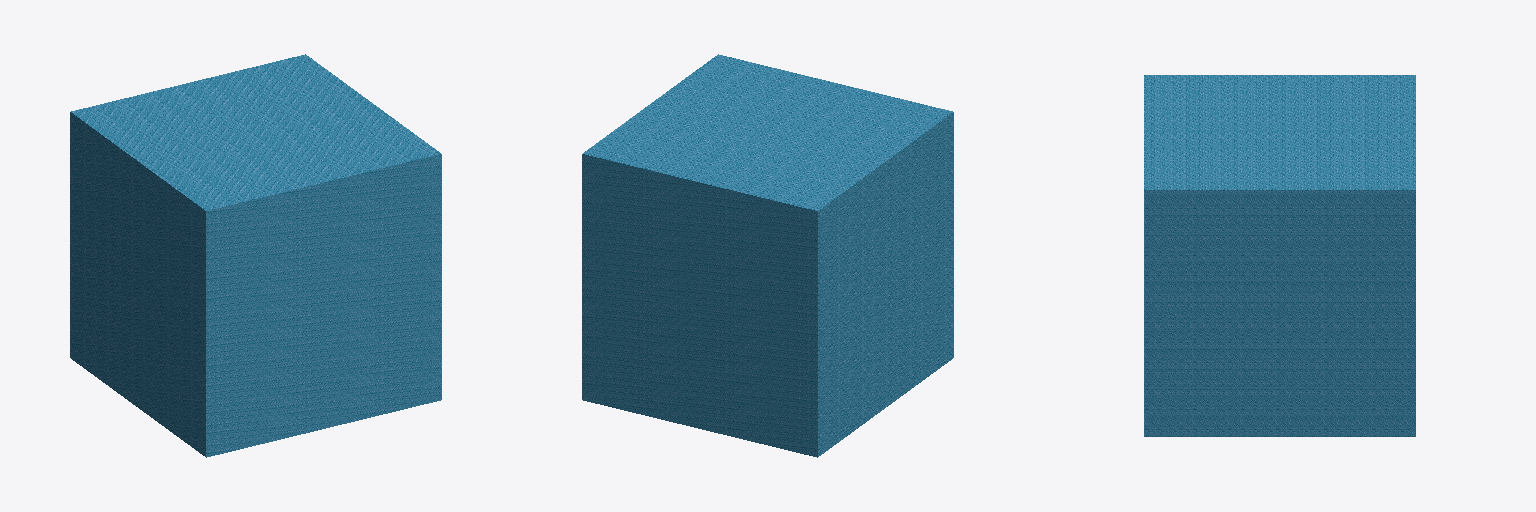
3 renders of one model, left to right at view 1: azimuth 30°, elevation 25°; view 2: azimuth 150°, elevation 25°; view 3: azimuth 270°, elevation 25°, orthographic.
Visible parts, largest first — view 1: Cube; view 2: Cube; view 3: Cube.
Part boxes in pixels (x1,y1,x2,y2): Cube: (70, 54, 441, 457); Cube: (582, 54, 953, 457); Cube: (1144, 75, 1415, 436).
Size of the model in its own units: 2 by 2 by 2.
1 materials, 1 textured.